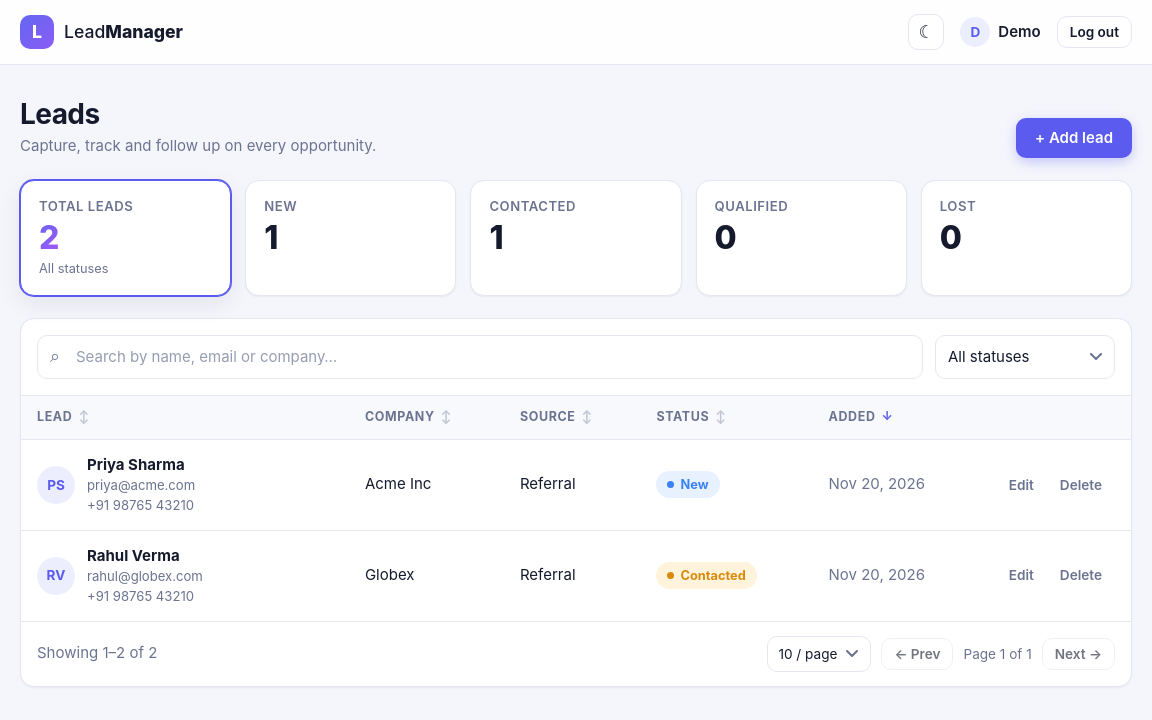
Test: LeadsPage › edits a lead and updates its status
Expected: the text "Priya Sharma" is shown, [87,454,195,476]
Click the button with aria-label "Edit Priya Sharma".
click(1021, 485)  # box [996,469,1047,501]
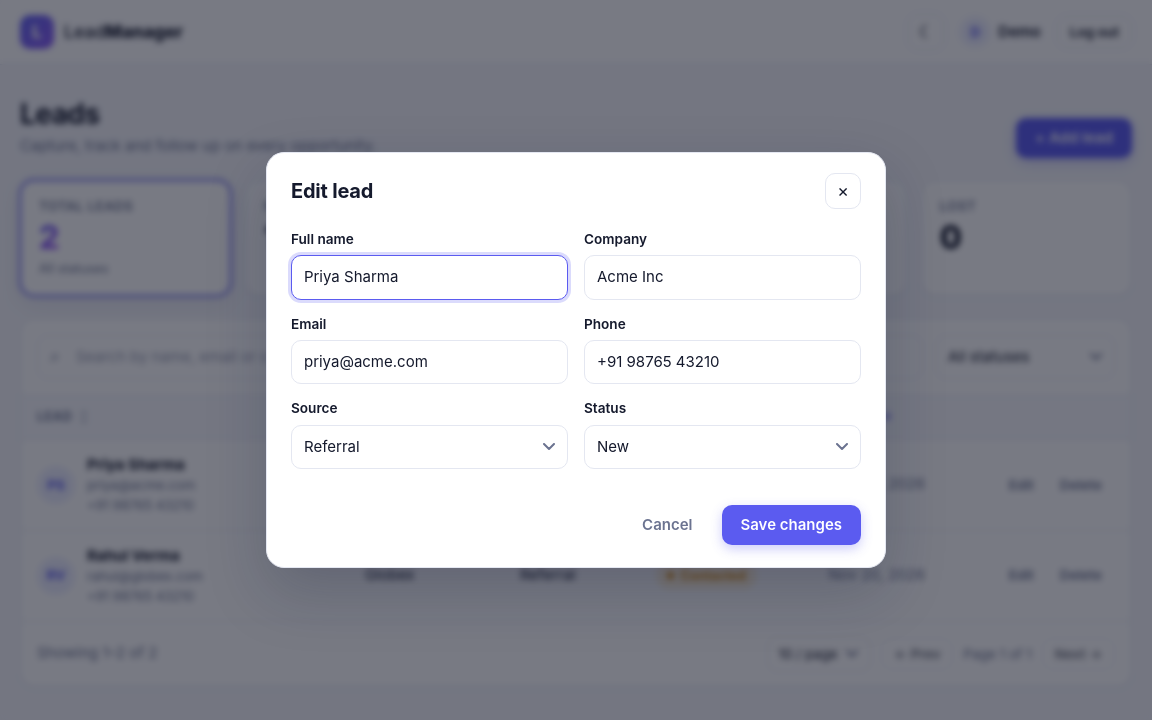
Select "Qualified" in the dropdown labelled "Status" at (722, 447), box [584,425,861,469]
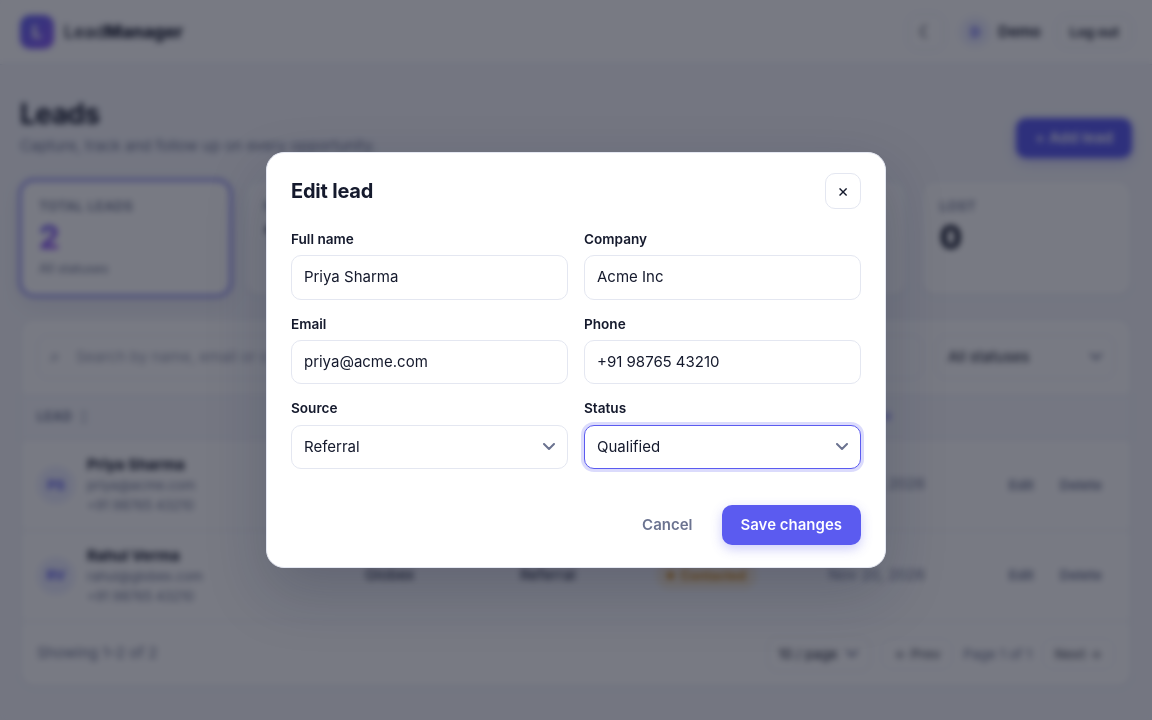
Click the button "Save changes".
click(791, 525)  # box [722,505,861,545]
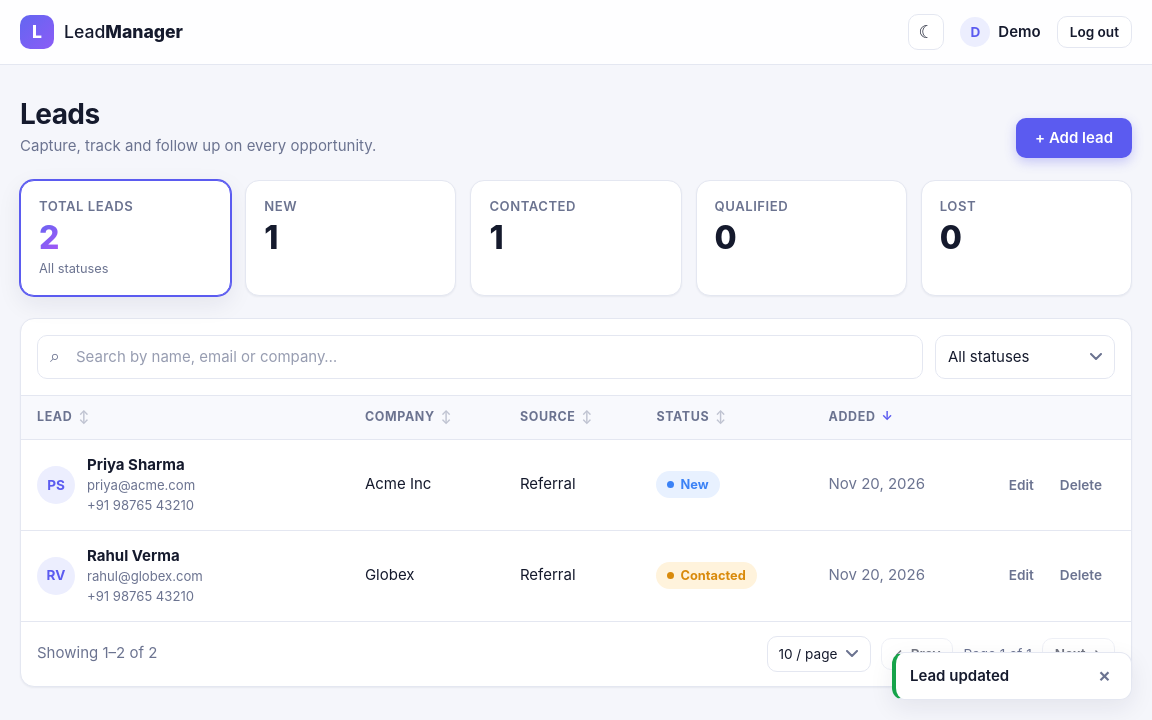
Now the text "Lead updated" is shown, box [910,666,1009,684]
